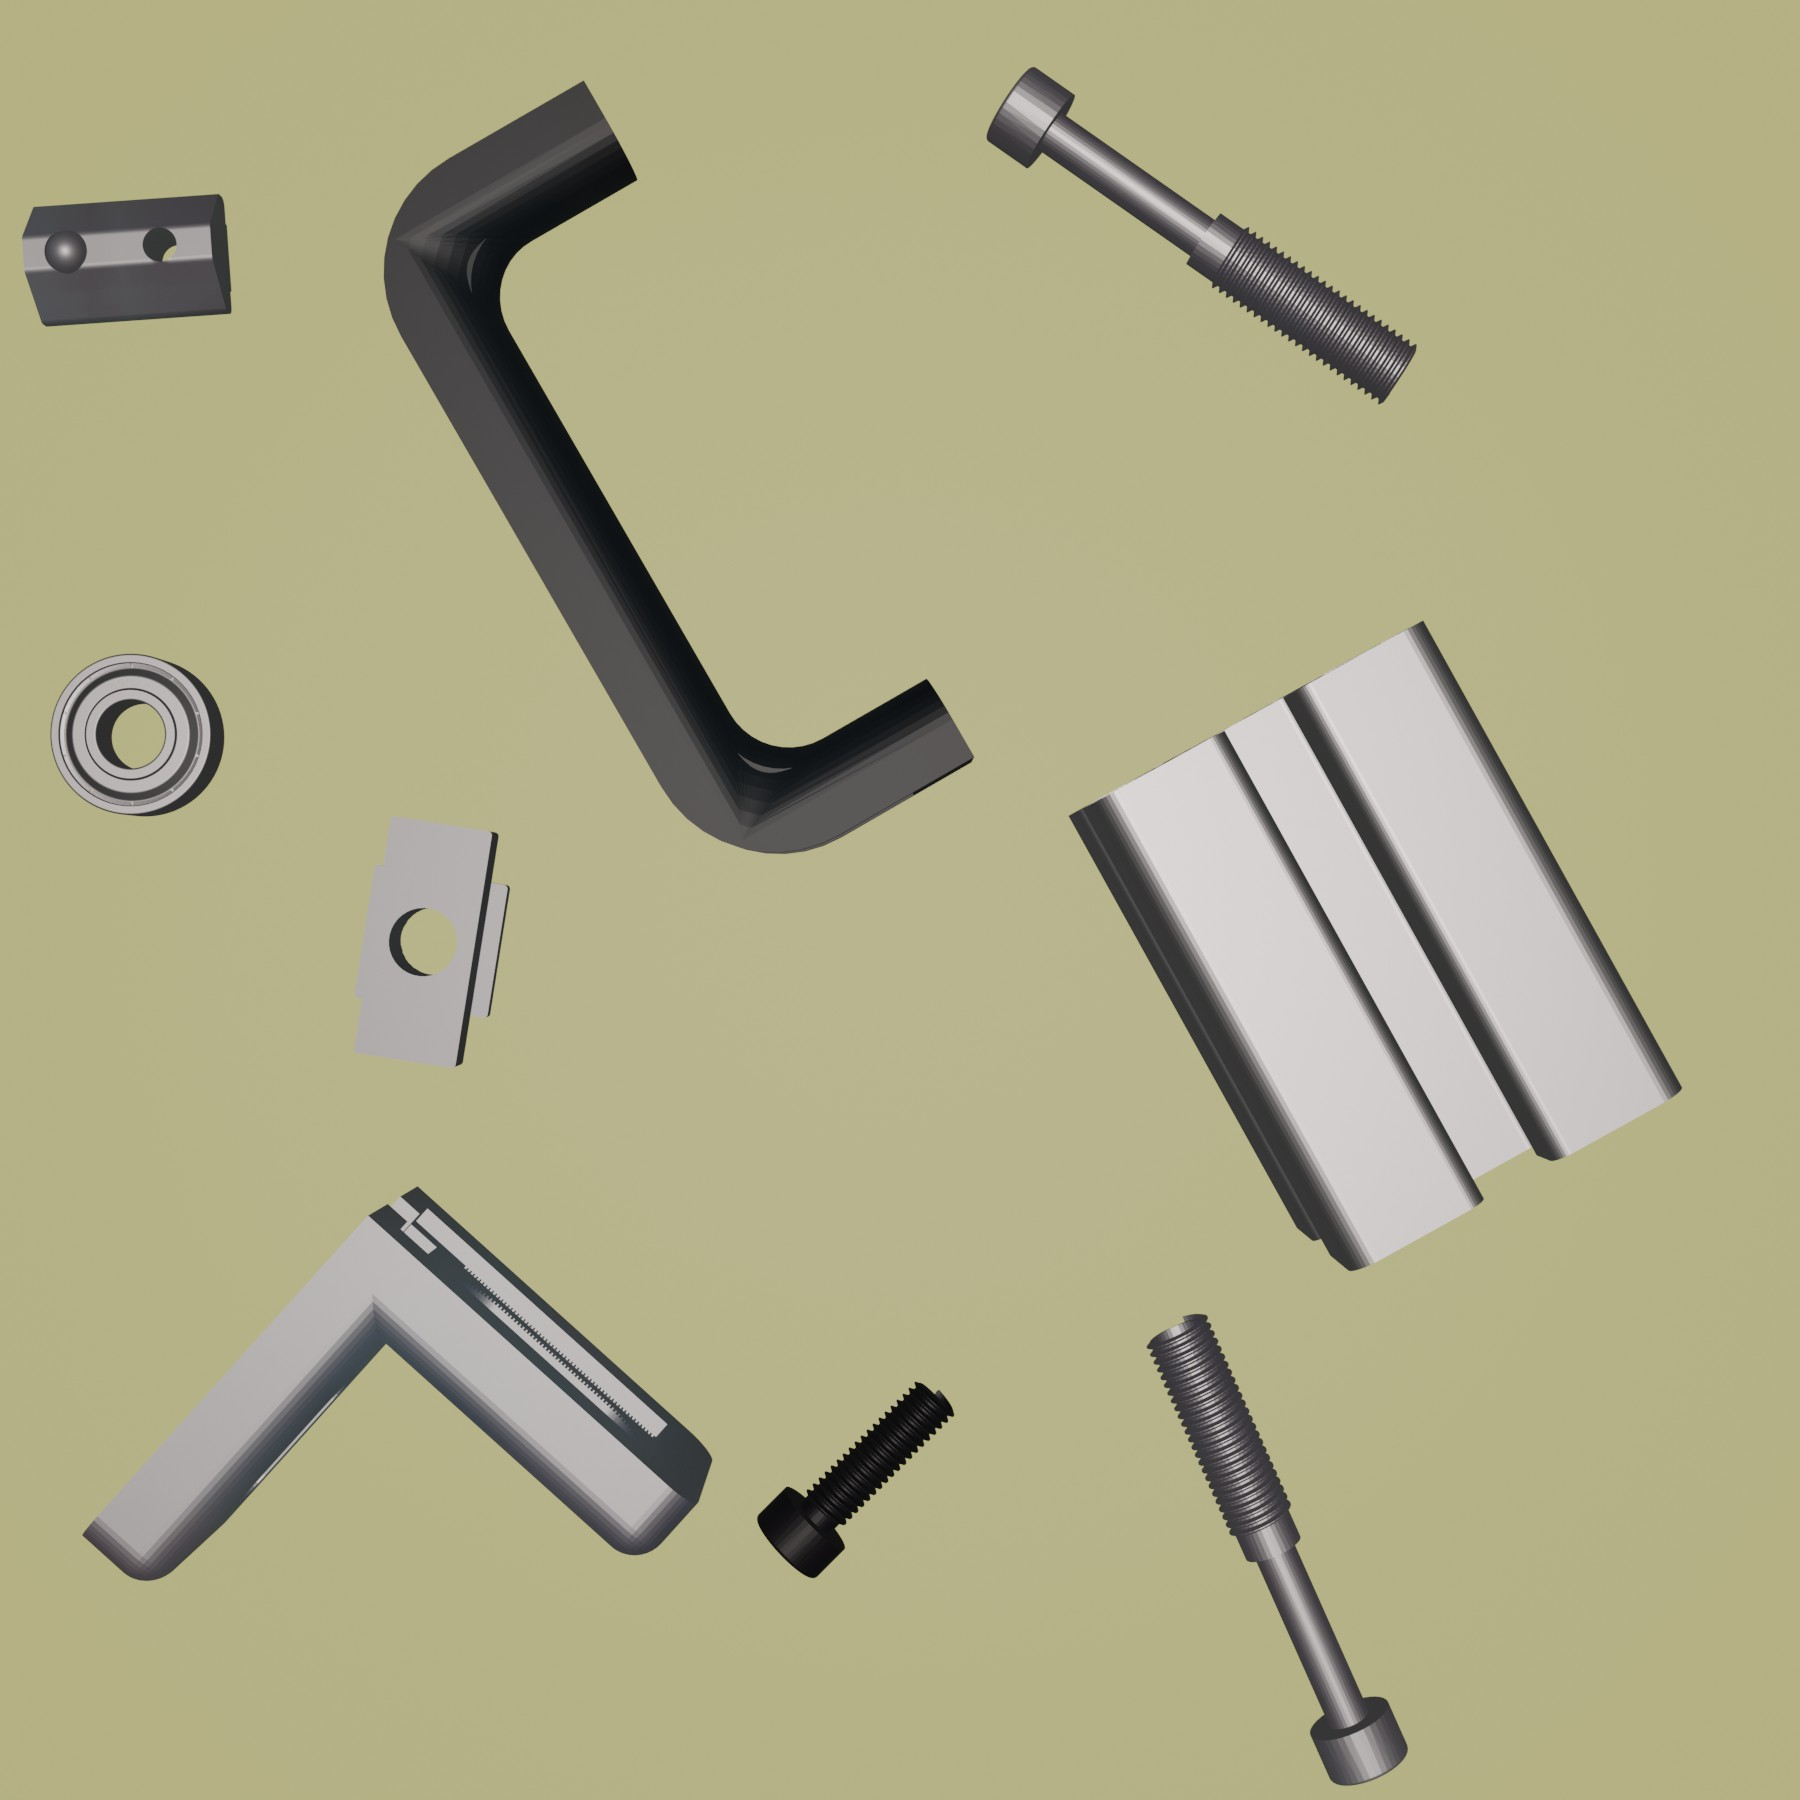Aluminium Extension: (1070, 616, 1686, 1273)
Ball Bearing: (48, 651, 227, 819)
Multiwinkel: (77, 1180, 715, 1582)
Pull Handle: (382, 77, 976, 855)
Shoulder Socket Head Cap Screw: (982, 64, 1419, 405), (1142, 1312, 1411, 1792)
Socket Head Cap Screw: (753, 1376, 956, 1582)
T Nut Square: (349, 814, 514, 1070)
T Spring Nut: (20, 191, 236, 330)
